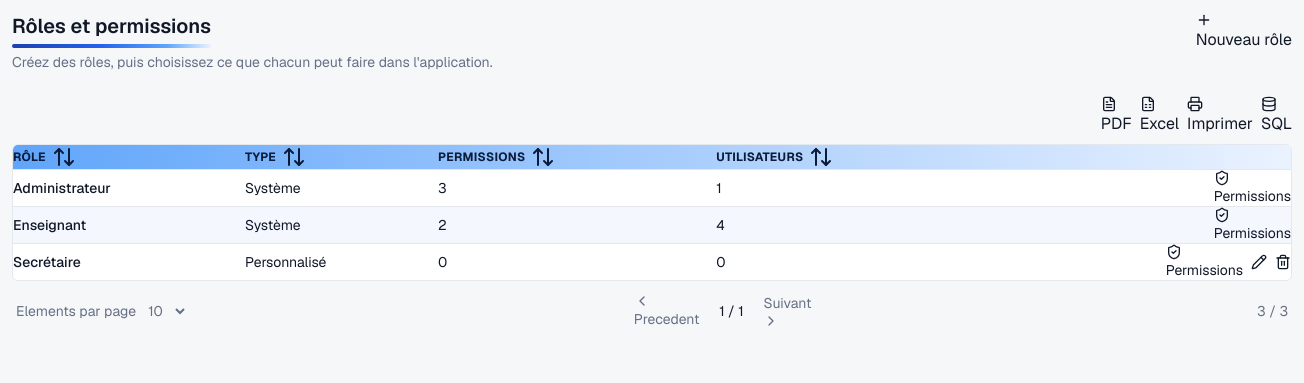
Test case: RolesPage › shows the server's refusal when a role is still assigned
Expected: the text "Secrétaire" is shown, [13,253,81,271]
Click the button named "Supprimer Secrétaire".
click(1283, 262)  # box [1275,244,1291,280]
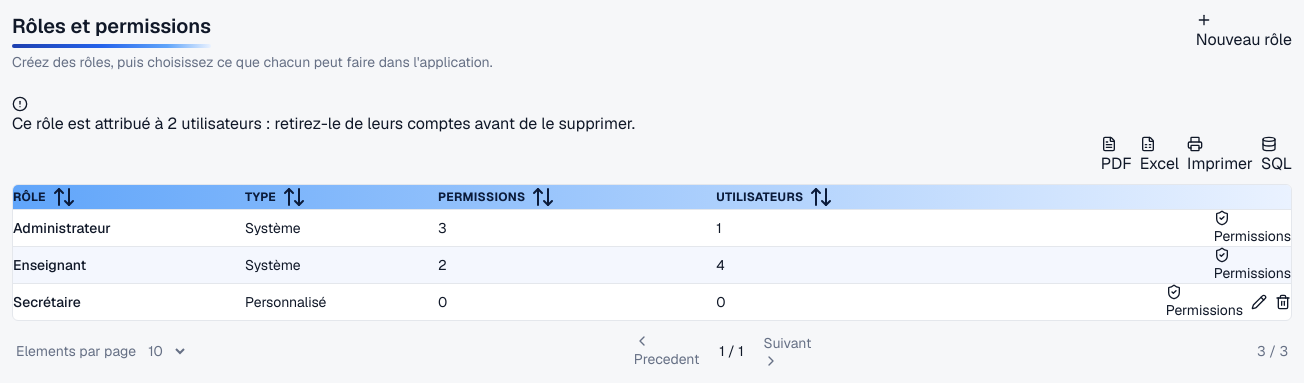
Expected: the text "Secrétaire" is shown, [13,293,81,311]
Expected: the text "Ce rôle est attribué à 2 utilisateurs" is shown, [12,113,635,134]
